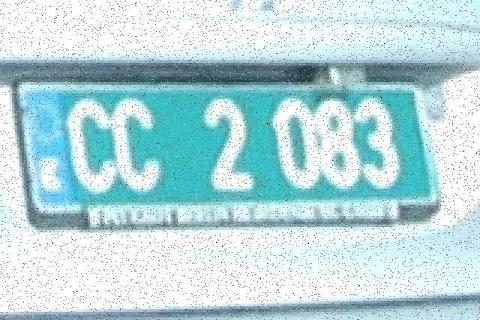LicensePlate: (8, 49, 454, 247)
